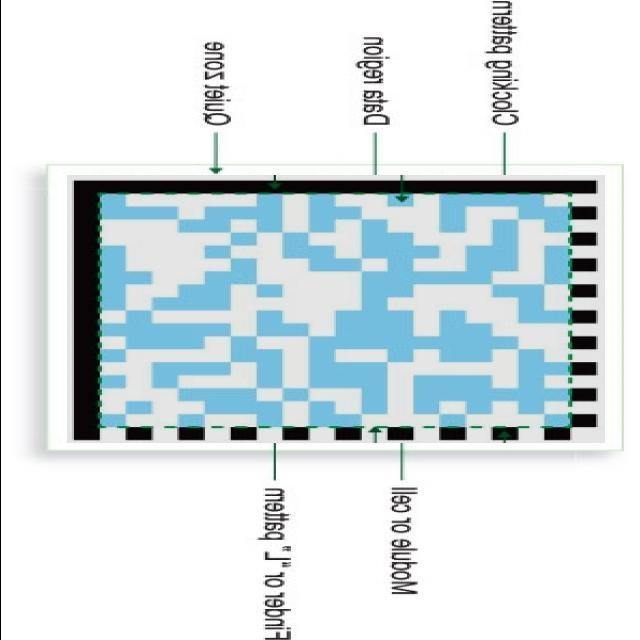Data-Matrix: (66, 175, 604, 443)
